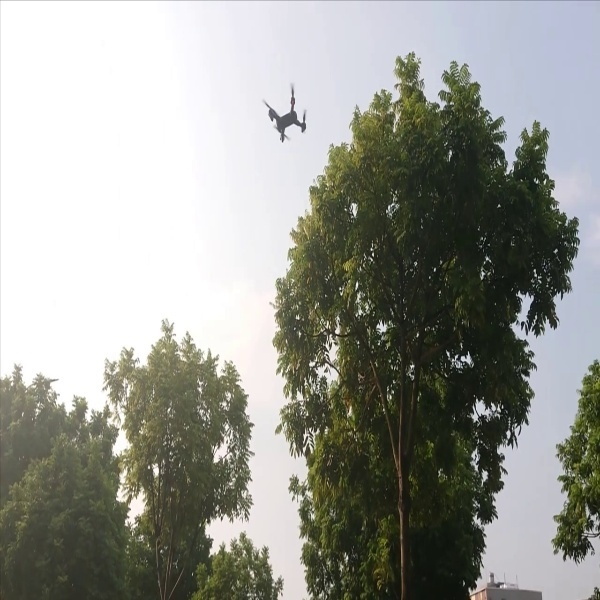drone: (256, 81, 322, 144)
